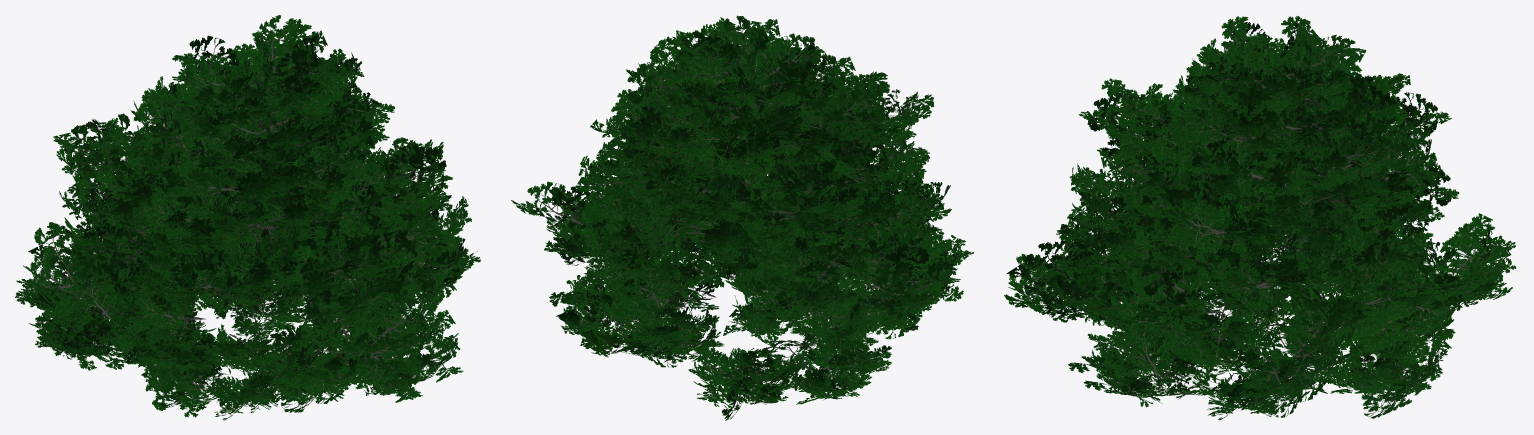
3 views of the same model, side by side, from view 1: azimuth 30°, elevation 25°; view 2: azimuth 150°, elevation 25°; view 3: azimuth 270°, elevation 25° (orthographic). The views are drawn at different scales.
Visible parts, largest first — view 1: SM_BM_Oak_Tree_01_Canopy_LOD0; view 2: SM_BM_Oak_Tree_01_Canopy_LOD0; view 3: SM_BM_Oak_Tree_01_Canopy_LOD0.
Boxes of the visible parts, x1=… form: SM_BM_Oak_Tree_01_Canopy_LOD0: x1=15, y1=15, x2=480, y2=420; SM_BM_Oak_Tree_01_Canopy_LOD0: x1=511, y1=15, x2=973, y2=420; SM_BM_Oak_Tree_01_Canopy_LOD0: x1=1004, y1=16, x2=1516, y2=419.
Size of the model in its own units: 18.67 by 13.56 by 17.95.
Materials: 1 (1 with a texture image).
